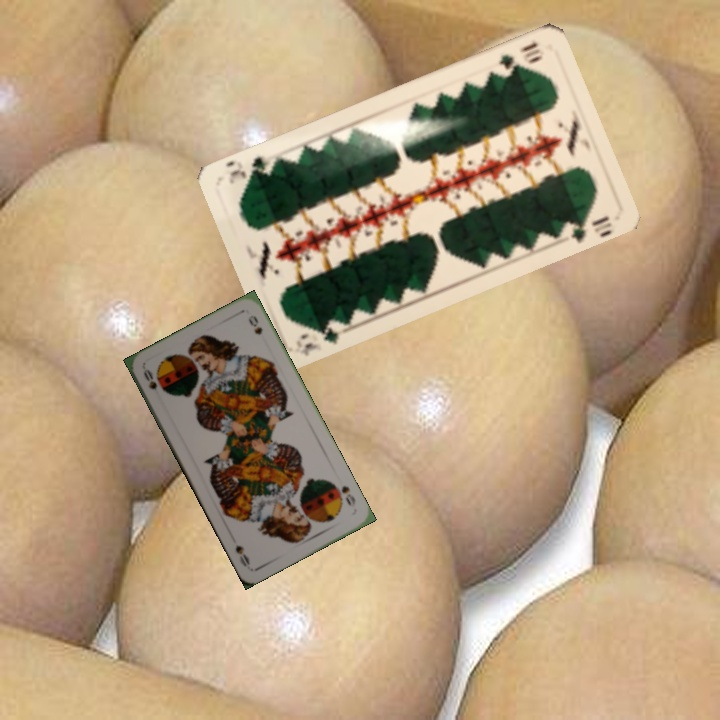G10: (292, 316, 348, 359), (494, 38, 544, 73)
SO: (330, 478, 358, 510), (139, 365, 160, 392)
